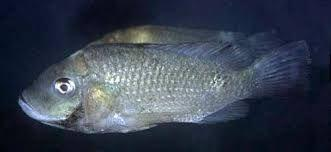Tilapia: (19, 22, 313, 134)
